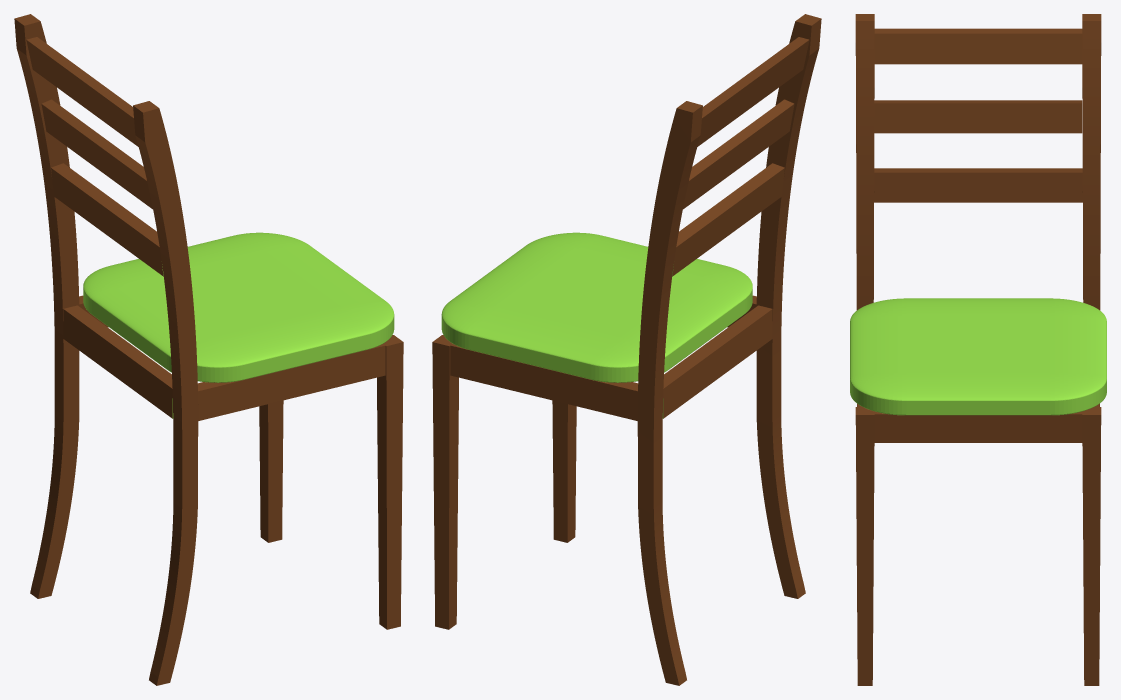
File: chair.fbx
3 renders of one model, left to right at view 1: azimuth 30°, elevation 25°; view 2: azimuth 150°, elevation 25°; view 3: azimuth 270°, elevation 25°, orthographic. The views are drawn at different scales.
Parts seen in each view (by area): view 1: Cube; view 2: Cube; view 3: Cube.
Boxes of the visible parts, left/top/right/bottom form: Cube: left=14, top=14, right=403, bottom=685; Cube: left=432, top=14, right=821, bottom=685; Cube: left=850, top=14, right=1106, bottom=685.
Size of the model in its own units: 393 by 807 by 340.
